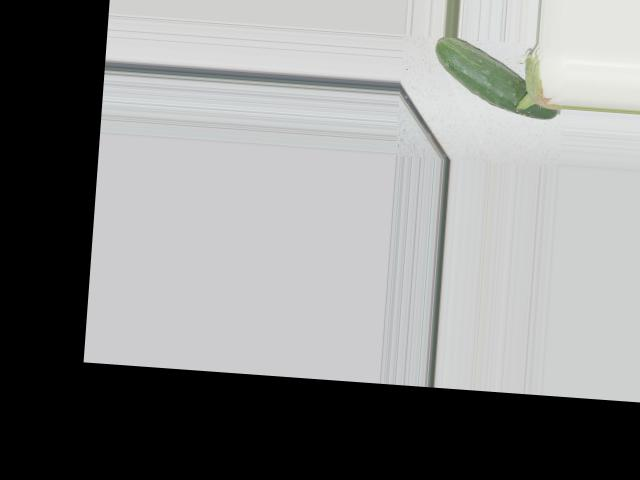cucumber: (430, 35, 565, 119)
